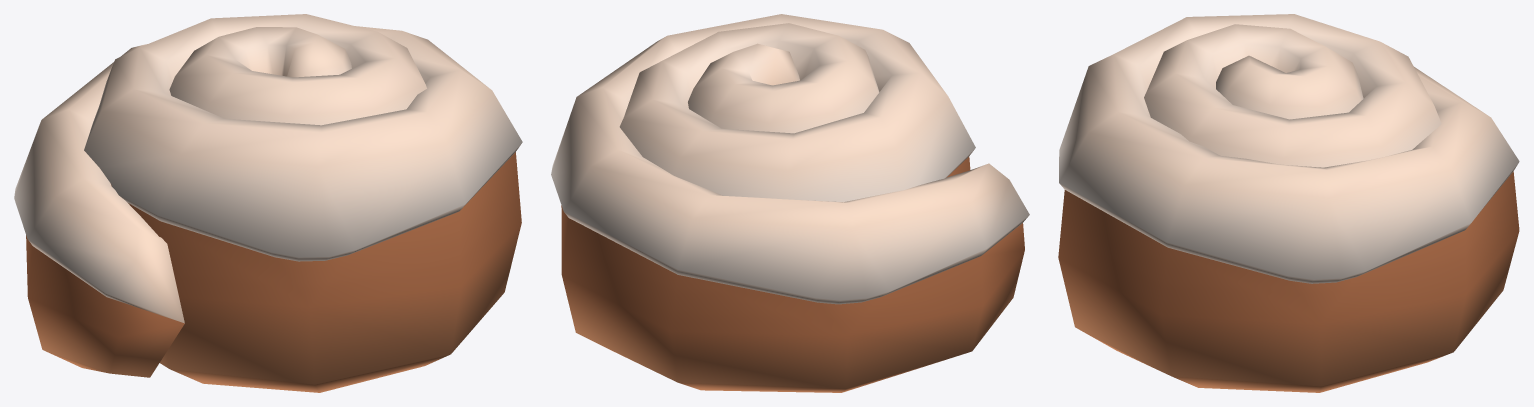
Rendered from cinnamon_roll.obj.
3 renders of one model, left to right at view 1: azimuth 30°, elevation 25°; view 2: azimuth 150°, elevation 25°; view 3: azimuth 270°, elevation 25°, orthographic. The views are drawn at different scales.
Parts seen in each view (by area): view 1: cinnamon_roll; view 2: cinnamon_roll; view 3: cinnamon_roll.
Boxes of the visible parts, box(x1,y1,x2,y2) form: cinnamon_roll: box(14, 14, 522, 392); cinnamon_roll: box(551, 14, 1029, 392); cinnamon_roll: box(1058, 14, 1519, 392).
Bounding box in the file's own units: 0.421 × 0.2538 × 0.3931.
Materials: 1 (1 with a texture image).
